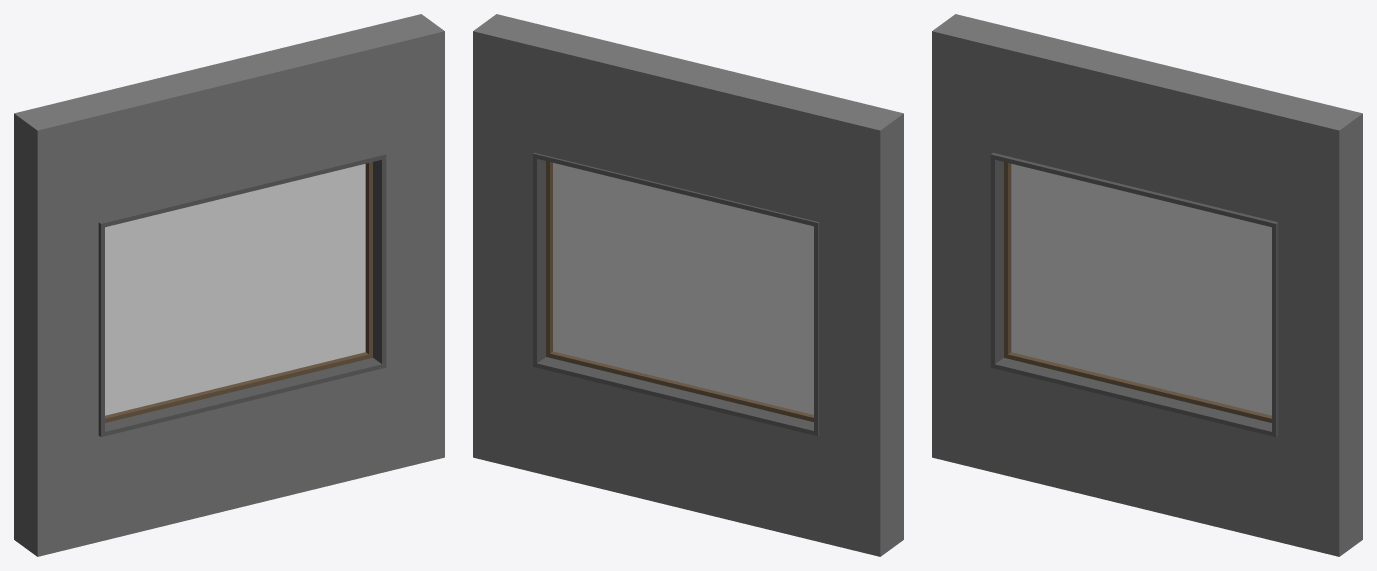
File: WindowWide.fbx
The picture shows the model from 3 angles, left to right: view 1: azimuth 30°, elevation 25°; view 2: azimuth 150°, elevation 25°; view 3: azimuth 330°, elevation 25°; orthographic projection.
Visible parts, largest first — view 1: WindowWide, Cube.010, Cube.001, Cube.009; view 2: WindowWide, Cube.010, Cube.001, Cube.009; view 3: WindowWide, Cube.010, Cube.001, Cube.009.
Boxes of the visible parts, <box> form: WindowWide: <box>14,14,444,556</box>; Cube.010: <box>105,164,365,415</box>; Cube.001: <box>98,152,386,436</box>; Cube.009: <box>105,162,372,422</box>; WindowWide: <box>473,14,903,556</box>; Cube.010: <box>553,163,813,414</box>; Cube.001: <box>533,152,819,436</box>; Cube.009: <box>546,161,813,421</box>; WindowWide: <box>932,14,1362,556</box>; Cube.010: <box>1011,164,1271,415</box>; Cube.001: <box>990,152,1278,436</box>; Cube.009: <box>1004,162,1271,422</box>.
Bounding box in the file's own units: 20 × 2.3 × 20.
